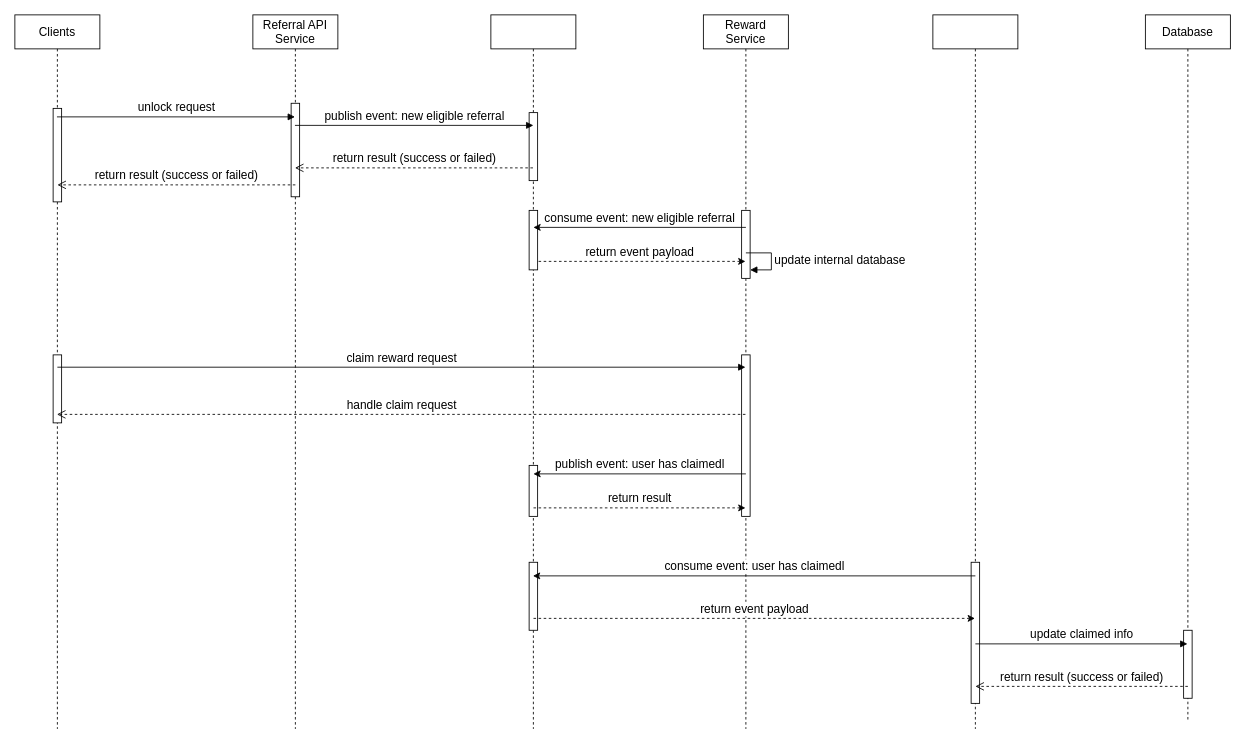
The diagram is 1245 pixels wide and 744 high, and some of its shapes have lost their labels. Here are the shapes that lost their labels. From the top down, the box of each, then its label:
(490, 14, 576, 729): Message Broker
(932, 14, 1018, 729): ClaimTracker
